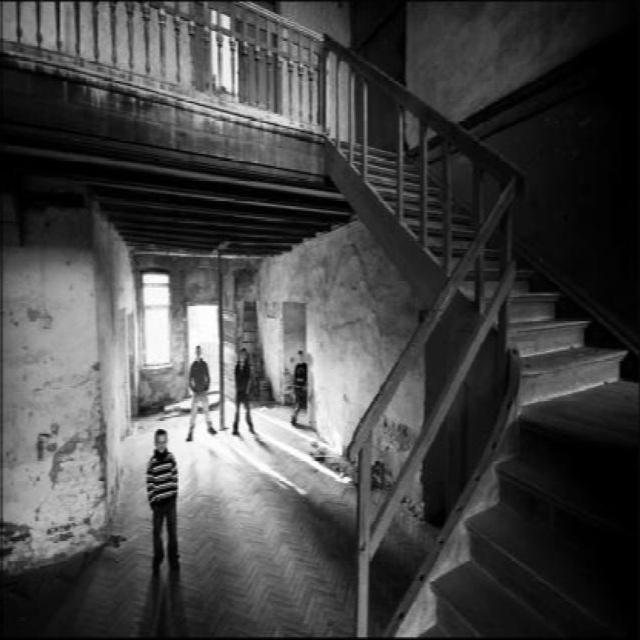stair: (328, 137, 640, 637)
